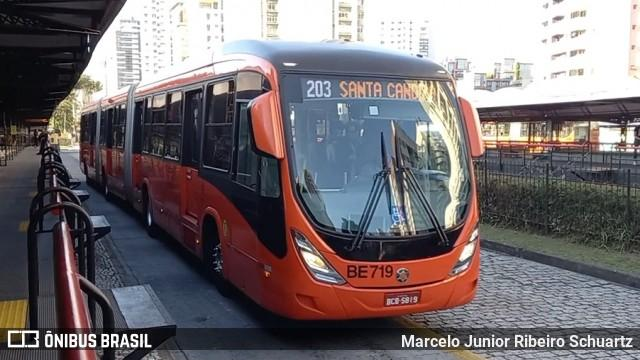SANTA CANDIDA: (336, 77, 442, 103)
